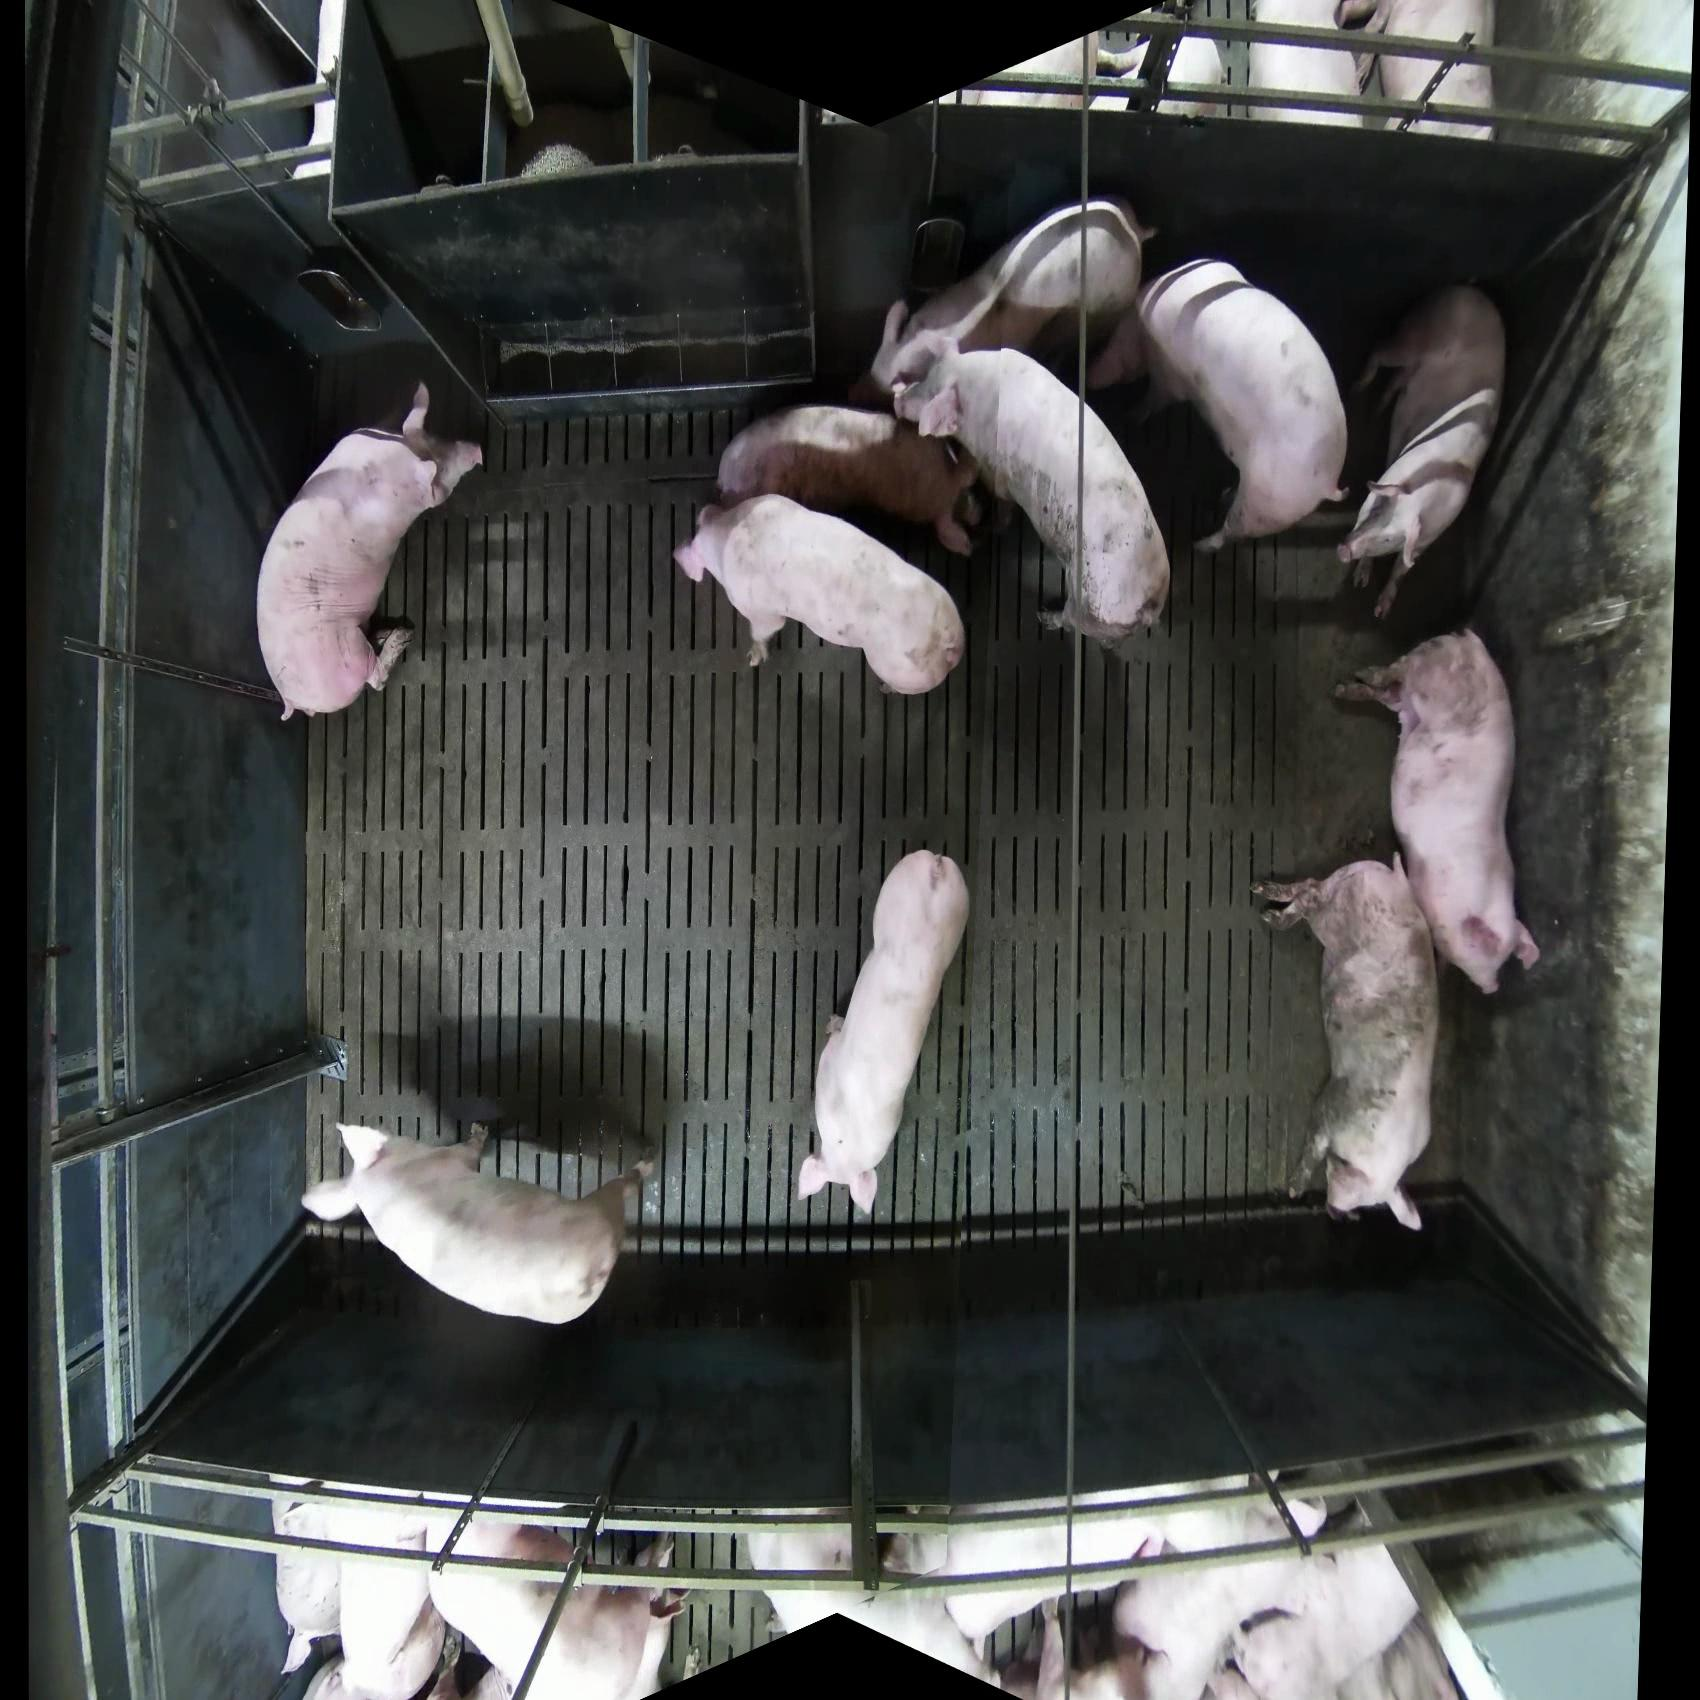pig: (890, 342, 1172, 652), (254, 378, 486, 722), (1085, 255, 1350, 556), (1333, 624, 1543, 996), (300, 1118, 657, 1326), (1250, 856, 1442, 1231), (853, 195, 1158, 413), (1112, 1498, 1432, 1700), (797, 848, 971, 1217), (272, 1493, 574, 1700), (673, 492, 967, 697), (1336, 282, 1509, 621), (884, 1515, 1168, 1684), (430, 1516, 690, 1698), (417, 1012, 683, 1185), (739, 1519, 993, 1689), (713, 402, 985, 557), (957, 25, 1227, 121), (1336, 2, 1498, 142), (1249, 2, 1379, 128)
